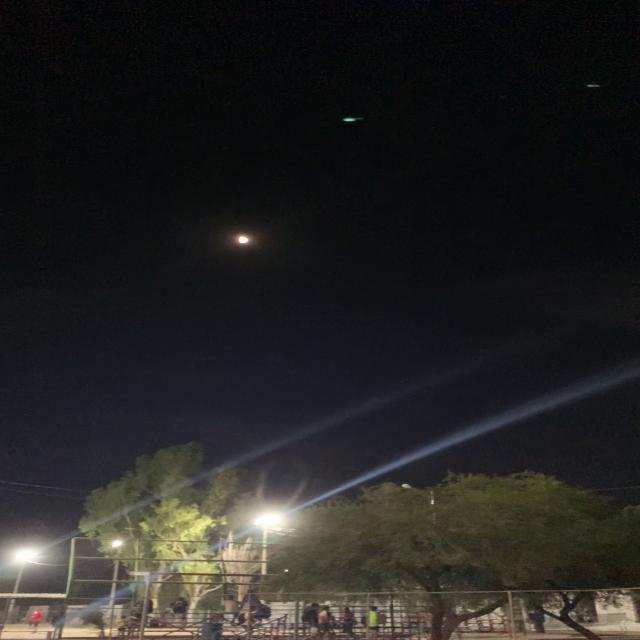moon: (224, 228, 271, 258)
